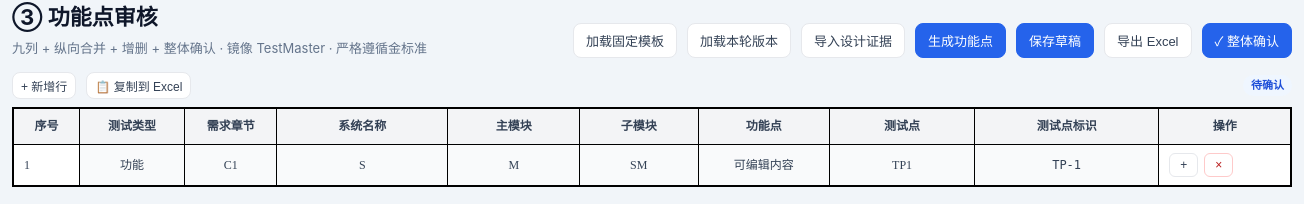
Scenario: Feature 功能点审核 › 点击单元格应进入编辑模式
Click the text "可编辑内容" at (764, 165), box [698,144,830,185]
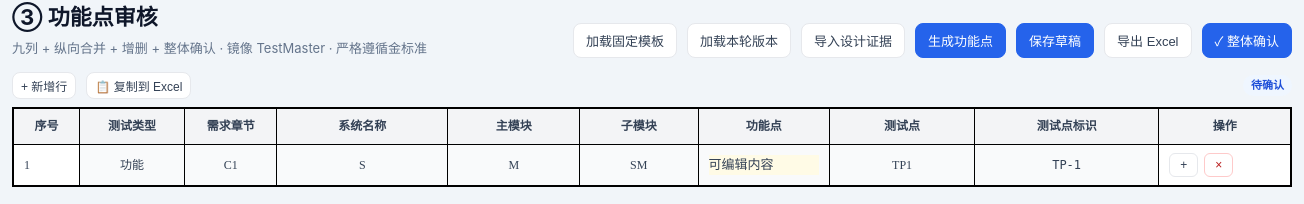
Expected: the field showing "可编辑内容" is shown, [708,155,819,175]
